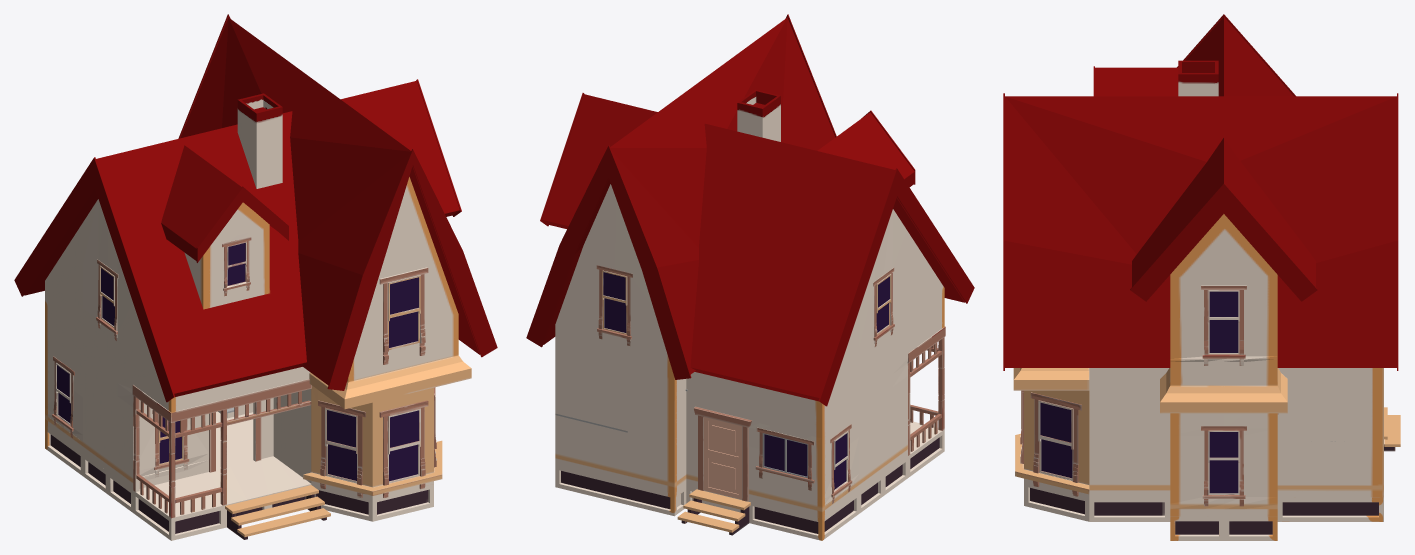
Rendered from nha.fbx.
The picture shows the model from 3 angles, left to right: view 1: azimuth 30°, elevation 25°; view 2: azimuth 150°, elevation 25°; view 3: azimuth 270°, elevation 25°; orthographic projection. The views are drawn at different scales.
Parts seen in each view (by area): view 1: nha; view 2: nha; view 3: nha.
Part boxes in pixels (x1,y1,x2,y2): nha: (14,14,497,540); nha: (526,14,974,540); nha: (1003,14,1400,540).
Size of the model in its own units: 822 by 901 by 818.
Materials: 1 (1 with a texture image).
